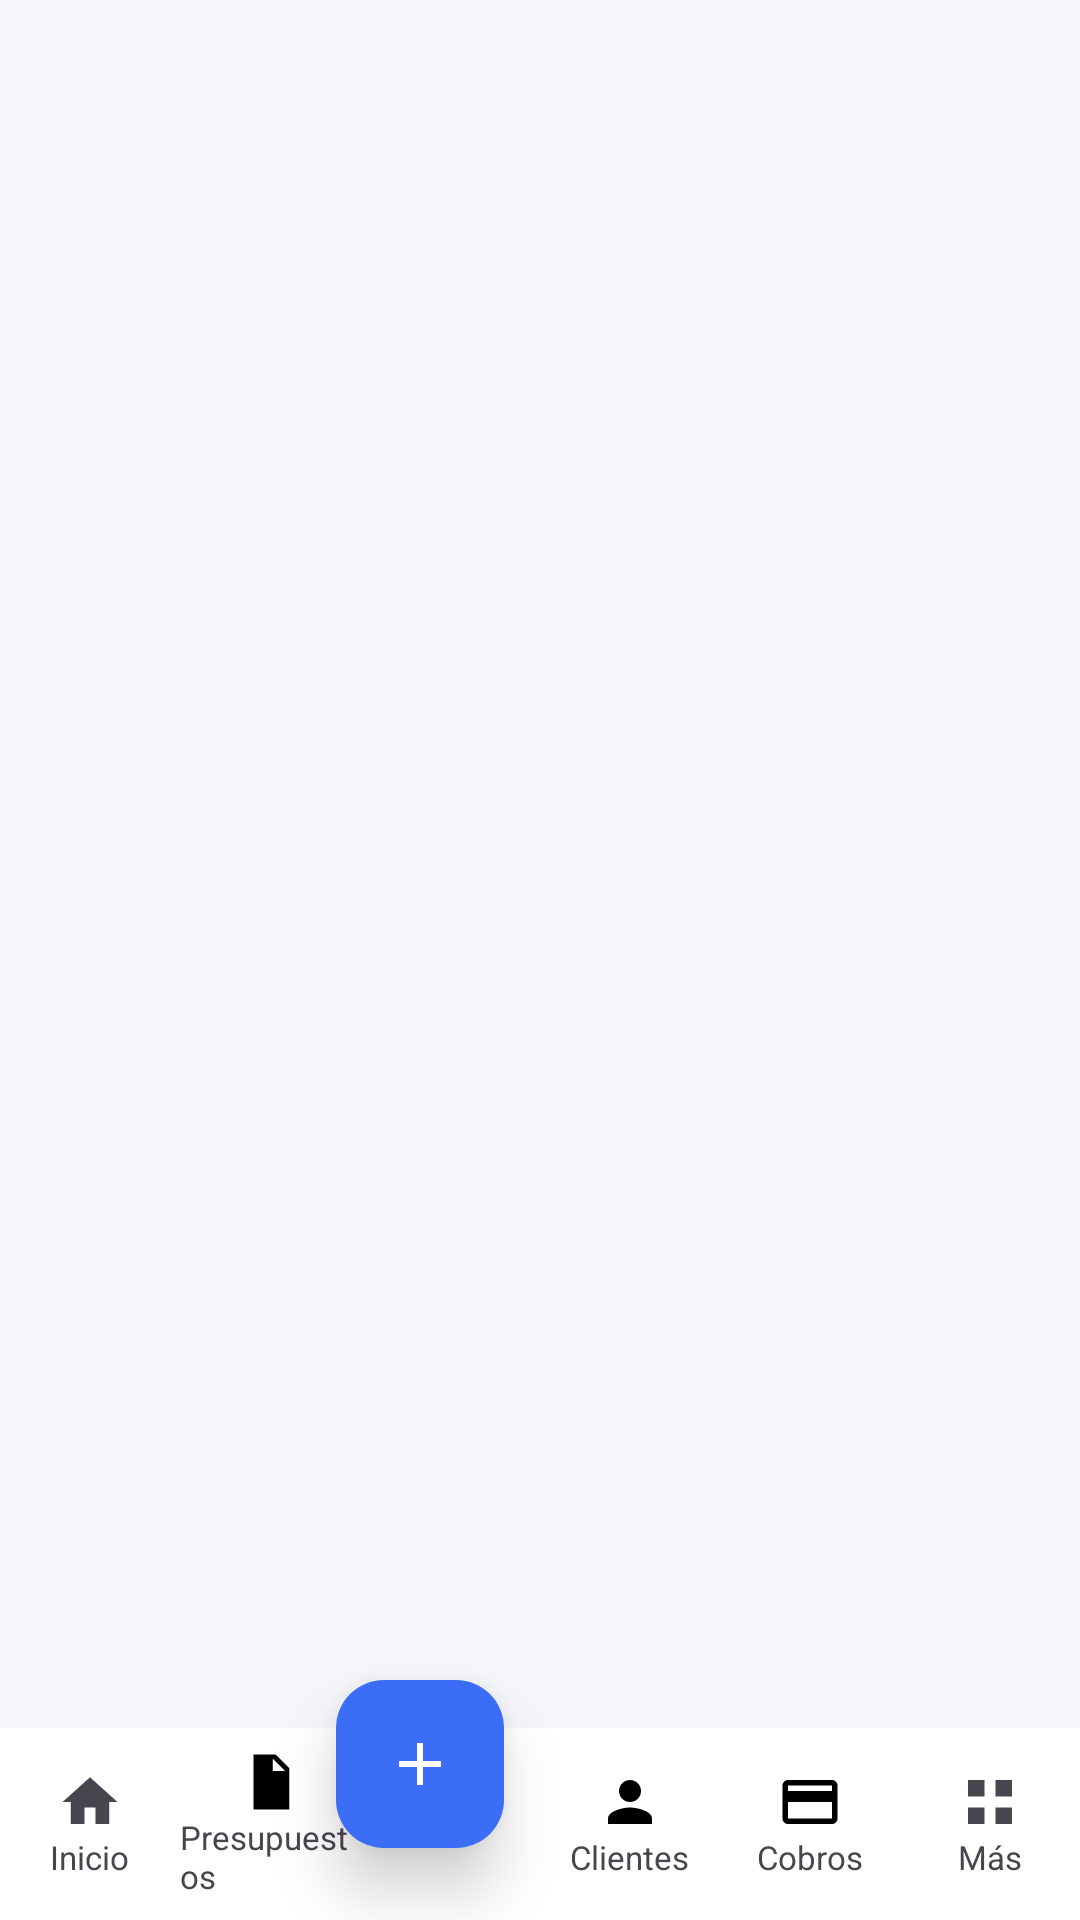

Named icons in this screenshot (1080*1920) and their centers, (x,y):
add: (420,1764)
